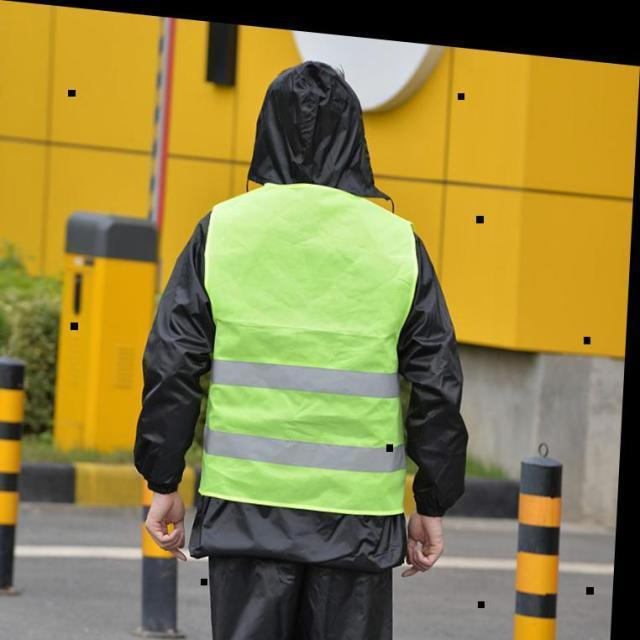safety_helmet: (127, 184, 466, 528)
